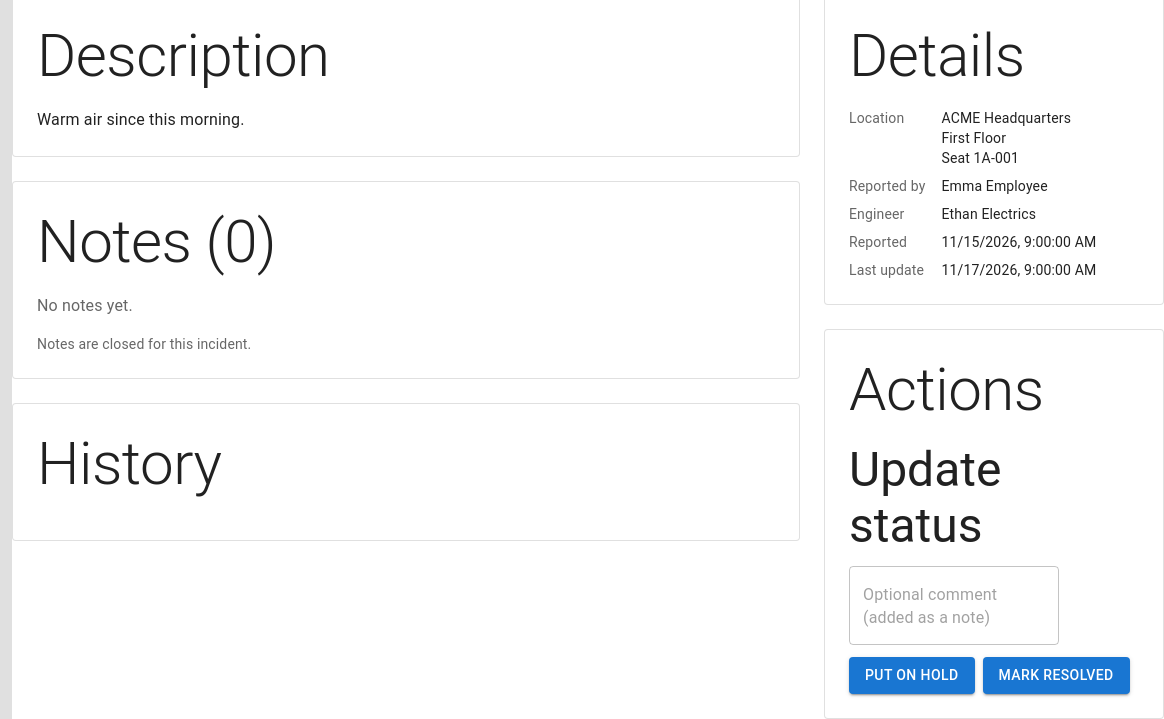
it: IncidentDetail › changes status with an optional comment and shows the result
(page scrolled)
Type "Fixed the compressor" into the text box with placeholder "Optional comment (added as a note)" at (954, 606), box [863,583,1045,629]
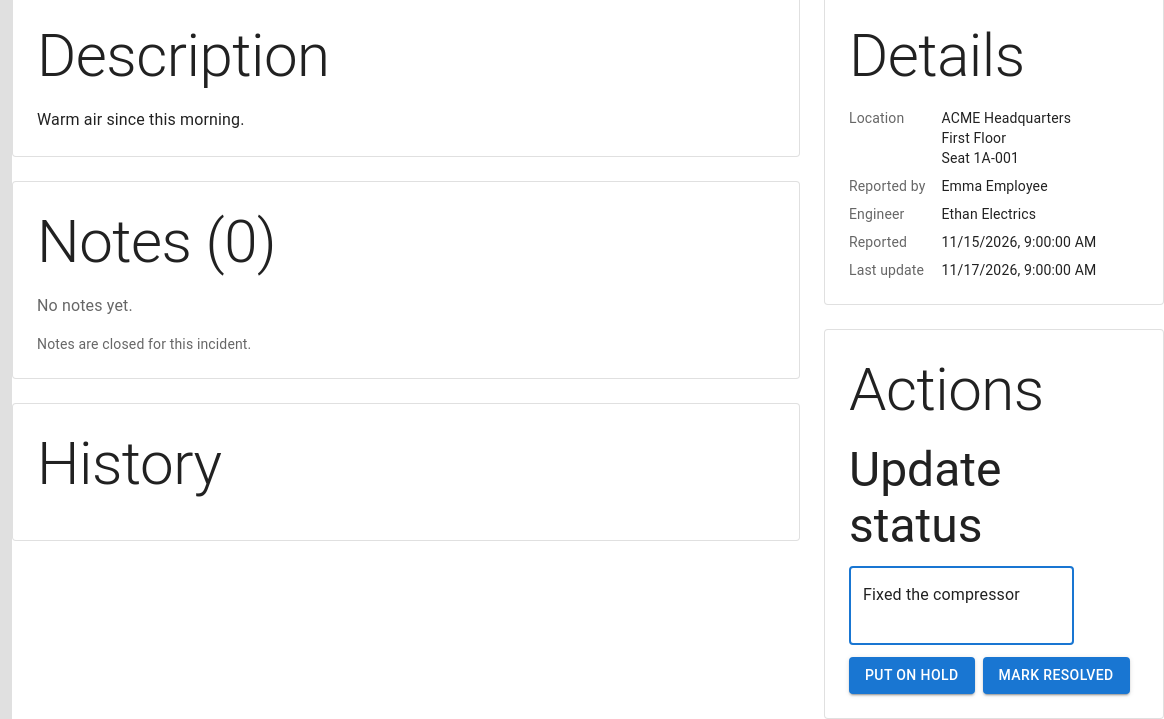
Click the button "Mark resolved" at (1056, 675), box [982,657,1130,694]
(page scrolled)
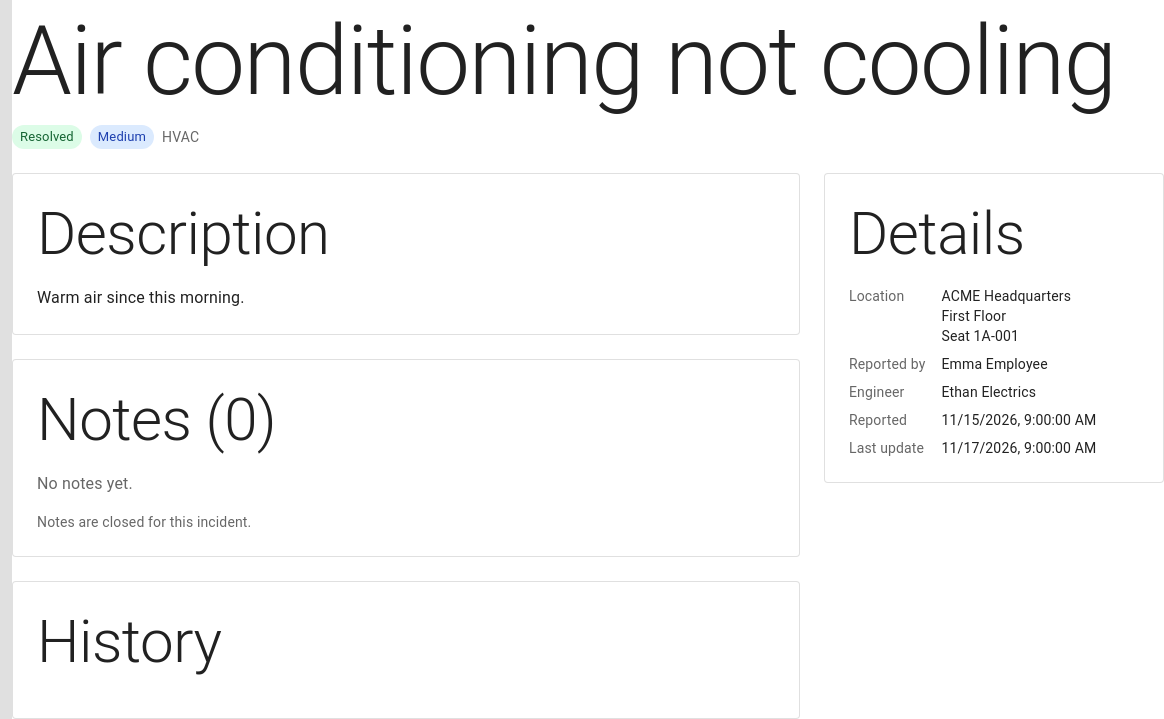
Expected: the text "Resolved" is shown, [20,129,74,144]
